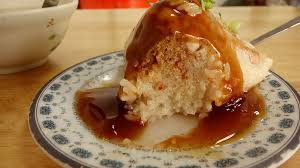zongzi: (118, 0, 272, 121)
